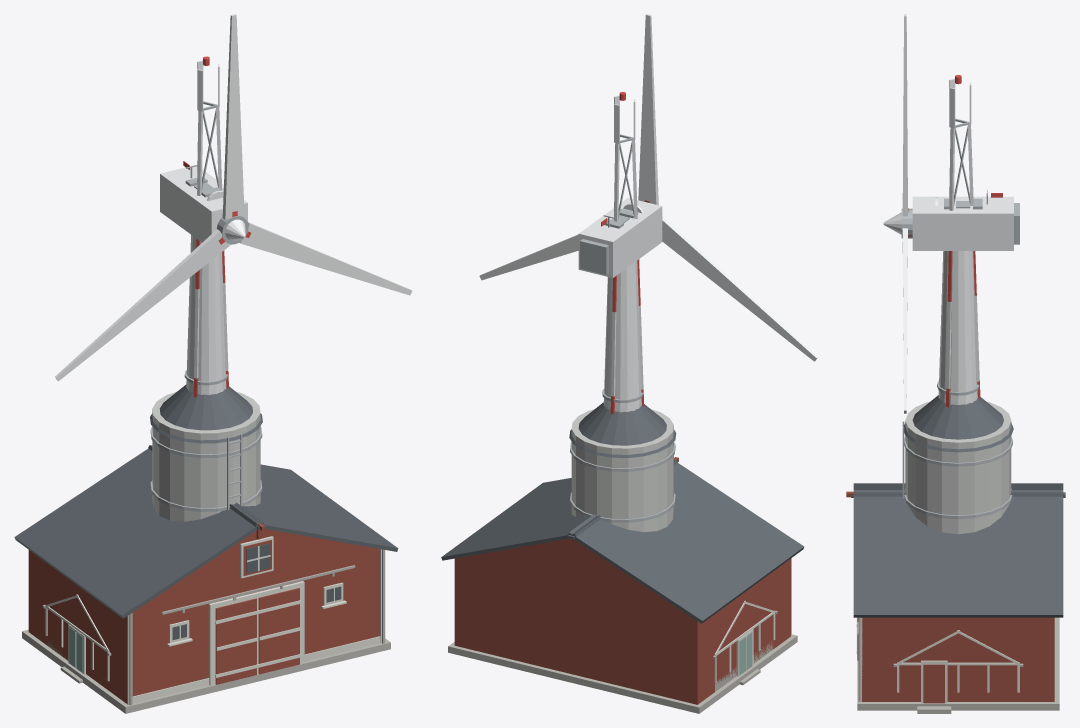
The model's file is landscape-kit-v2.glb.
3 renders of one model, left to right at view 1: azimuth 30°, elevation 25°; view 2: azimuth 150°, elevation 25°; view 3: azimuth 270°, elevation 25°, orthographic. The views are drawn at different scales.
Visible parts, largest first — view 1: Barn_BarnWood, Barn_DarkRoof, WindTurbine_TurbineWhite, Silo_Galvanized, Barn_WhiteTrim, Barn_Concrete, Silo_DarkRoof, RadioMast_TurbineWhite, Silo_GalvSteel, Greenhouse_WhiteTrim, WindTurbine_GalvSteel; view 2: Barn_BarnWood, Barn_DarkRoof, WindTurbine_TurbineWhite, Silo_Galvanized, Barn_Concrete, Silo_DarkRoof, RadioMast_TurbineWhite, WindTurbine_GalvSteel, Greenhouse_WhiteTrim, Silo_GalvSteel; view 3: Barn_DarkRoof, Barn_BarnWood, WindTurbine_TurbineWhite, Silo_Galvanized, Silo_DarkRoof, Barn_Concrete, RadioMast_TurbineWhite, Silo_GalvSteel, Greenhouse_WhiteTrim, WindTurbine_GalvSteel, Barn_WhiteTrim, RadioMast_SignalRed (+1 smaller).
Boxes of the visible parts, box(x1,y1,x2,y2) form: Barn_BarnWood: box(28, 522, 379, 703); Barn_DarkRoof: box(14, 445, 398, 640); WindTurbine_TurbineWhite: box(55, 14, 412, 394); Silo_Galvanized: box(152, 391, 260, 521); Barn_WhiteTrim: box(127, 536, 385, 704); Barn_Concrete: box(22, 549, 390, 713); Silo_DarkRoof: box(150, 384, 262, 443); RadioMast_TurbineWhite: box(194, 60, 228, 378); Silo_GalvSteel: box(150, 426, 262, 511); Greenhouse_WhiteTrim: box(45, 594, 109, 681); WindTurbine_GalvSteel: box(184, 165, 248, 385); Barn_BarnWood: box(454, 457, 790, 704); Barn_DarkRoof: box(441, 459, 804, 623); WindTurbine_TurbineWhite: box(479, 14, 817, 412); Silo_Galvanized: box(571, 409, 673, 531); Barn_Concrete: box(448, 634, 797, 713); Silo_DarkRoof: box(569, 402, 676, 457); RadioMast_TurbineWhite: box(611, 95, 643, 396); WindTurbine_GalvSteel: box(580, 209, 662, 402); Greenhouse_WhiteTrim: box(714, 600, 775, 682); Silo_GalvSteel: box(570, 441, 675, 522); Barn_DarkRoof: box(851, 483, 1065, 617); Barn_BarnWood: box(846, 491, 1054, 703); WindTurbine_TurbineWhite: box(883, 14, 1013, 413); Silo_Galvanized: box(905, 401, 1011, 534); Silo_DarkRoof: box(904, 395, 1013, 452); Barn_Concrete: box(857, 617, 1059, 713); RadioMast_TurbineWhite: box(935, 78, 979, 388); Silo_GalvSteel: box(902, 421, 1012, 519); Greenhouse_WhiteTrim: box(897, 630, 1019, 692); WindTurbine_GalvSteel: box(901, 190, 1019, 395); Barn_WhiteTrim: box(856, 617, 947, 702); RadioMast_SignalRed: box(946, 75, 980, 407).
Size of the model in its own units: 16.65 by 28.97 by 9.1.
